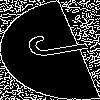J: (25, 25, 100, 61)
